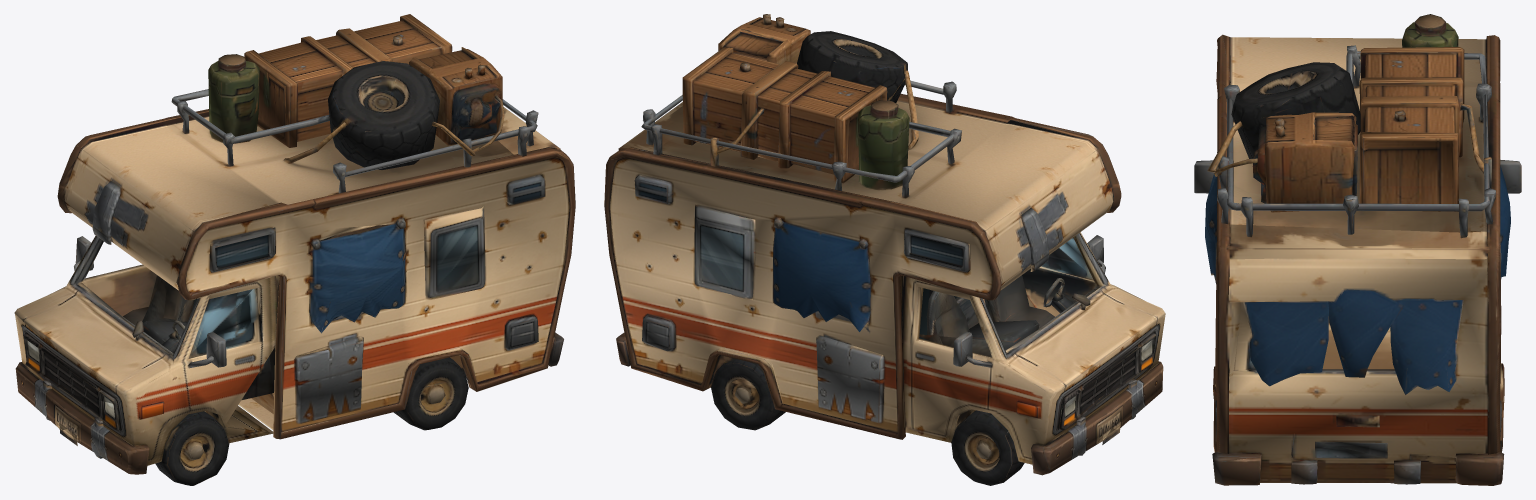
Rendered from Meshy_AI__0912150500_texture.fbx.
3 renders of one model, left to right at view 1: azimuth 30°, elevation 25°; view 2: azimuth 150°, elevation 25°; view 3: azimuth 270°, elevation 25°, orthographic. The views are drawn at different scales.
Visible parts, largest first — view 1: Mesh_0; view 2: Mesh_0; view 3: Mesh_0.
Part boxes in pixels (x1,y1,x2,y2): Mesh_0: [14, 14, 575, 485]; Mesh_0: [604, 14, 1165, 485]; Mesh_0: [1194, 14, 1521, 485].
Bounding box in the file's own units: 99.8 × 71.68 × 55.27.
Materials: 1 (1 with a texture image).
